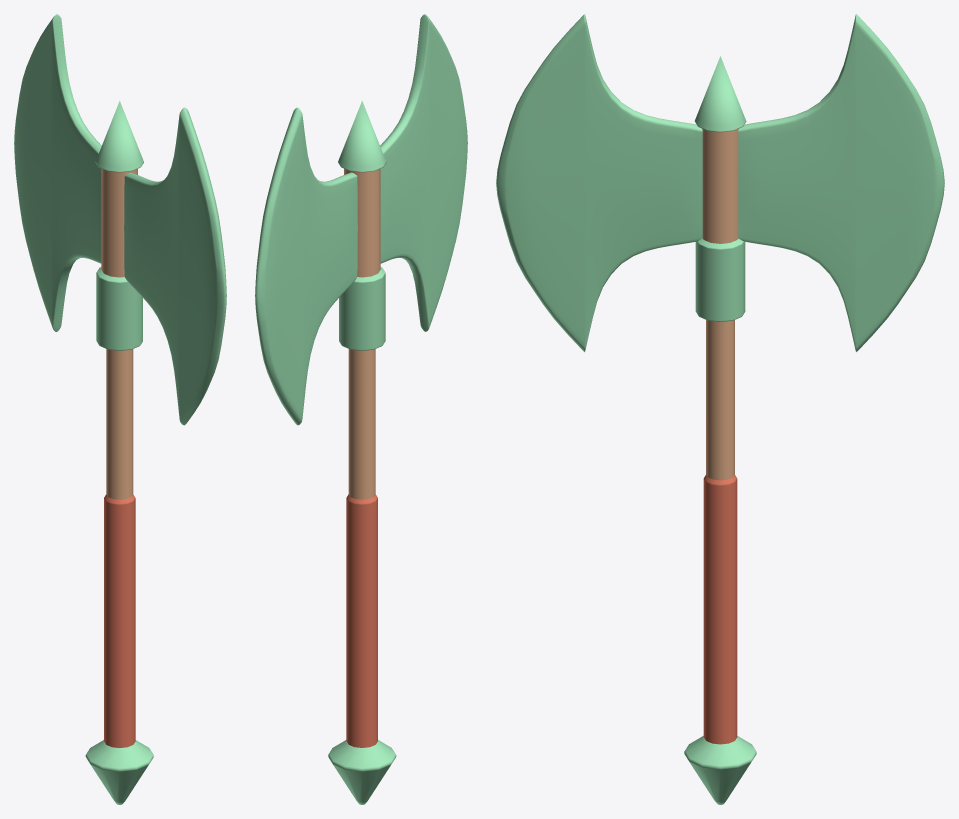
Rendered from axe.fbx.
The picture shows the model from 3 angles, left to right: view 1: azimuth 30°, elevation 25°; view 2: azimuth 150°, elevation 25°; view 3: azimuth 270°, elevation 25°; orthographic projection. The views are drawn at different scales.
Parts seen in each view (by area): view 1: Cylinder, Cylinder.003, Cylinder.005; view 2: Cylinder, Cylinder.003, Cylinder.005; view 3: Cylinder, Cylinder.003, Cylinder.005.
Part boxes in pixels (x1,y1,x2,y2): Cylinder: [14, 14, 226, 804]; Cylinder.003: [104, 494, 135, 747]; Cylinder.005: [101, 168, 137, 499]; Cylinder: [255, 14, 467, 804]; Cylinder.003: [346, 494, 377, 747]; Cylinder.005: [344, 168, 380, 499]; Cylinder: [496, 14, 944, 804]; Cylinder.003: [703, 474, 737, 744]; Cylinder.005: [702, 128, 738, 480].
Bounding box in the file's own units: 39.85 × 480 × 247.
